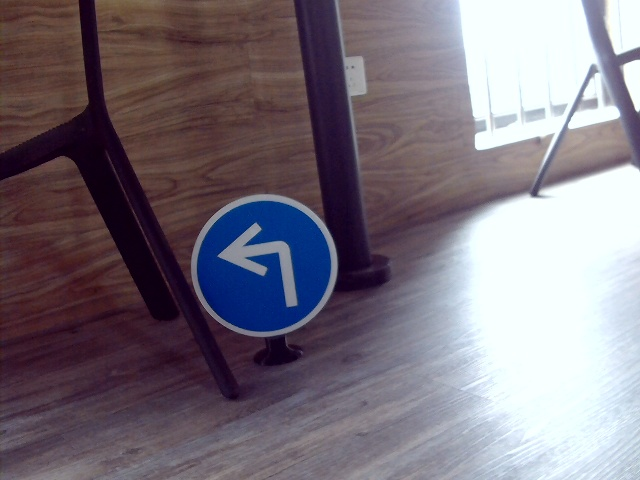turn_left: (220, 218, 305, 311)
